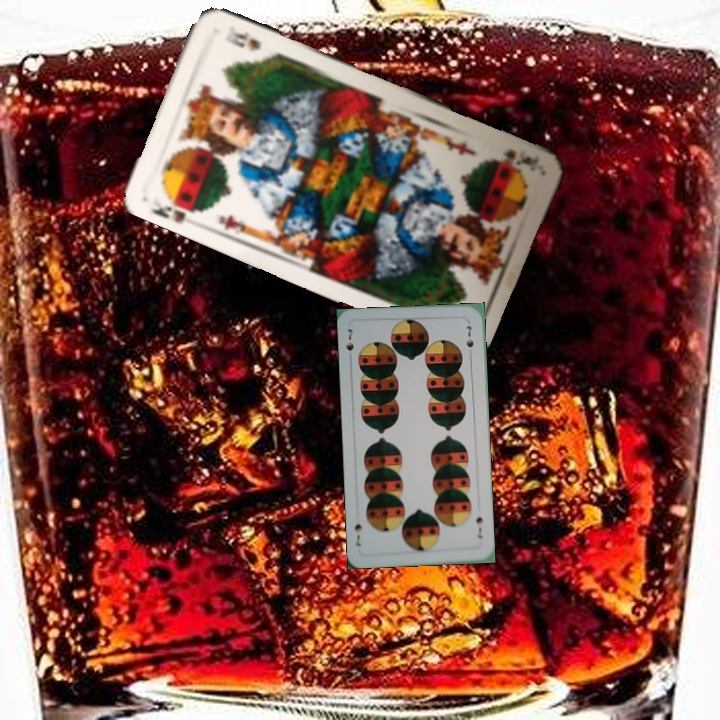S7: (342, 325, 356, 364), (472, 512, 485, 541)
SK: (146, 194, 203, 226), (498, 145, 542, 174)
